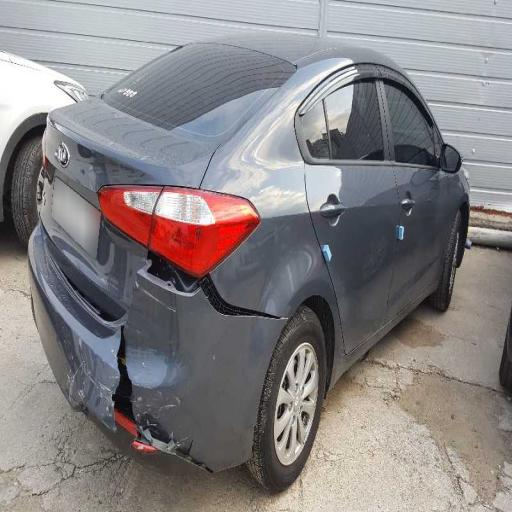broken: (58, 192, 305, 459)
